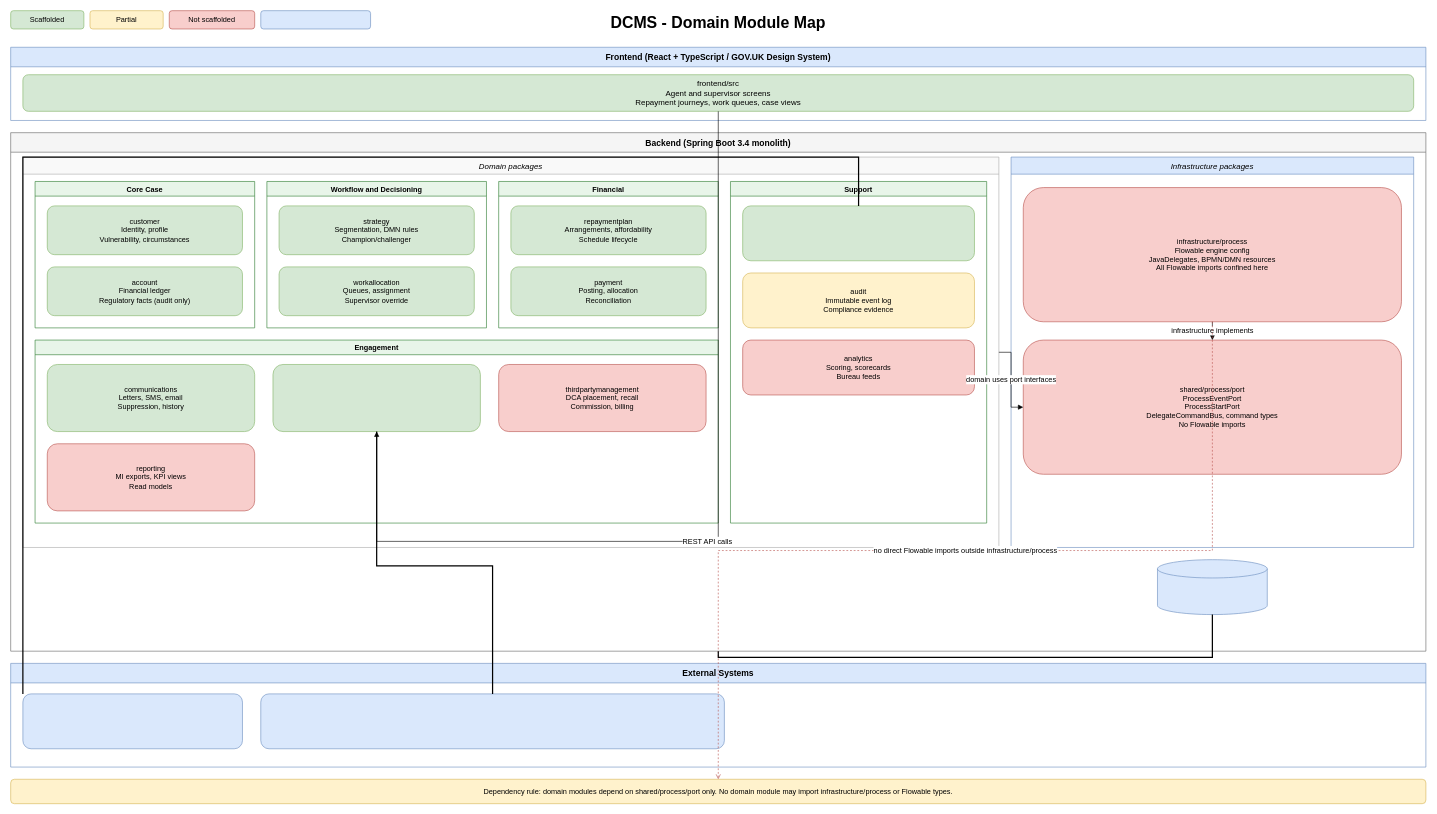
This 1437x814 diagram has some shape labels left out. Here are the shapes that lost their labels. From the top down, the centre of each, then its label:
At (x=315, y=19): "Infrastructure / external".
At (x=858, y=233): "user RBAC, admin Keycloak integration".
At (x=376, y=398): "integration Candidate ingest External interfaces, ACL".
At (x=1212, y=587): "PostgreSQL 16 Flyway migrations".
At (x=132, y=721): "Keycloak 24 OAuth 2.0 + OIDC".
At (x=492, y=721): "DWP Place, DCA, Payment Gateway, Bureau Feeds, DM6".
